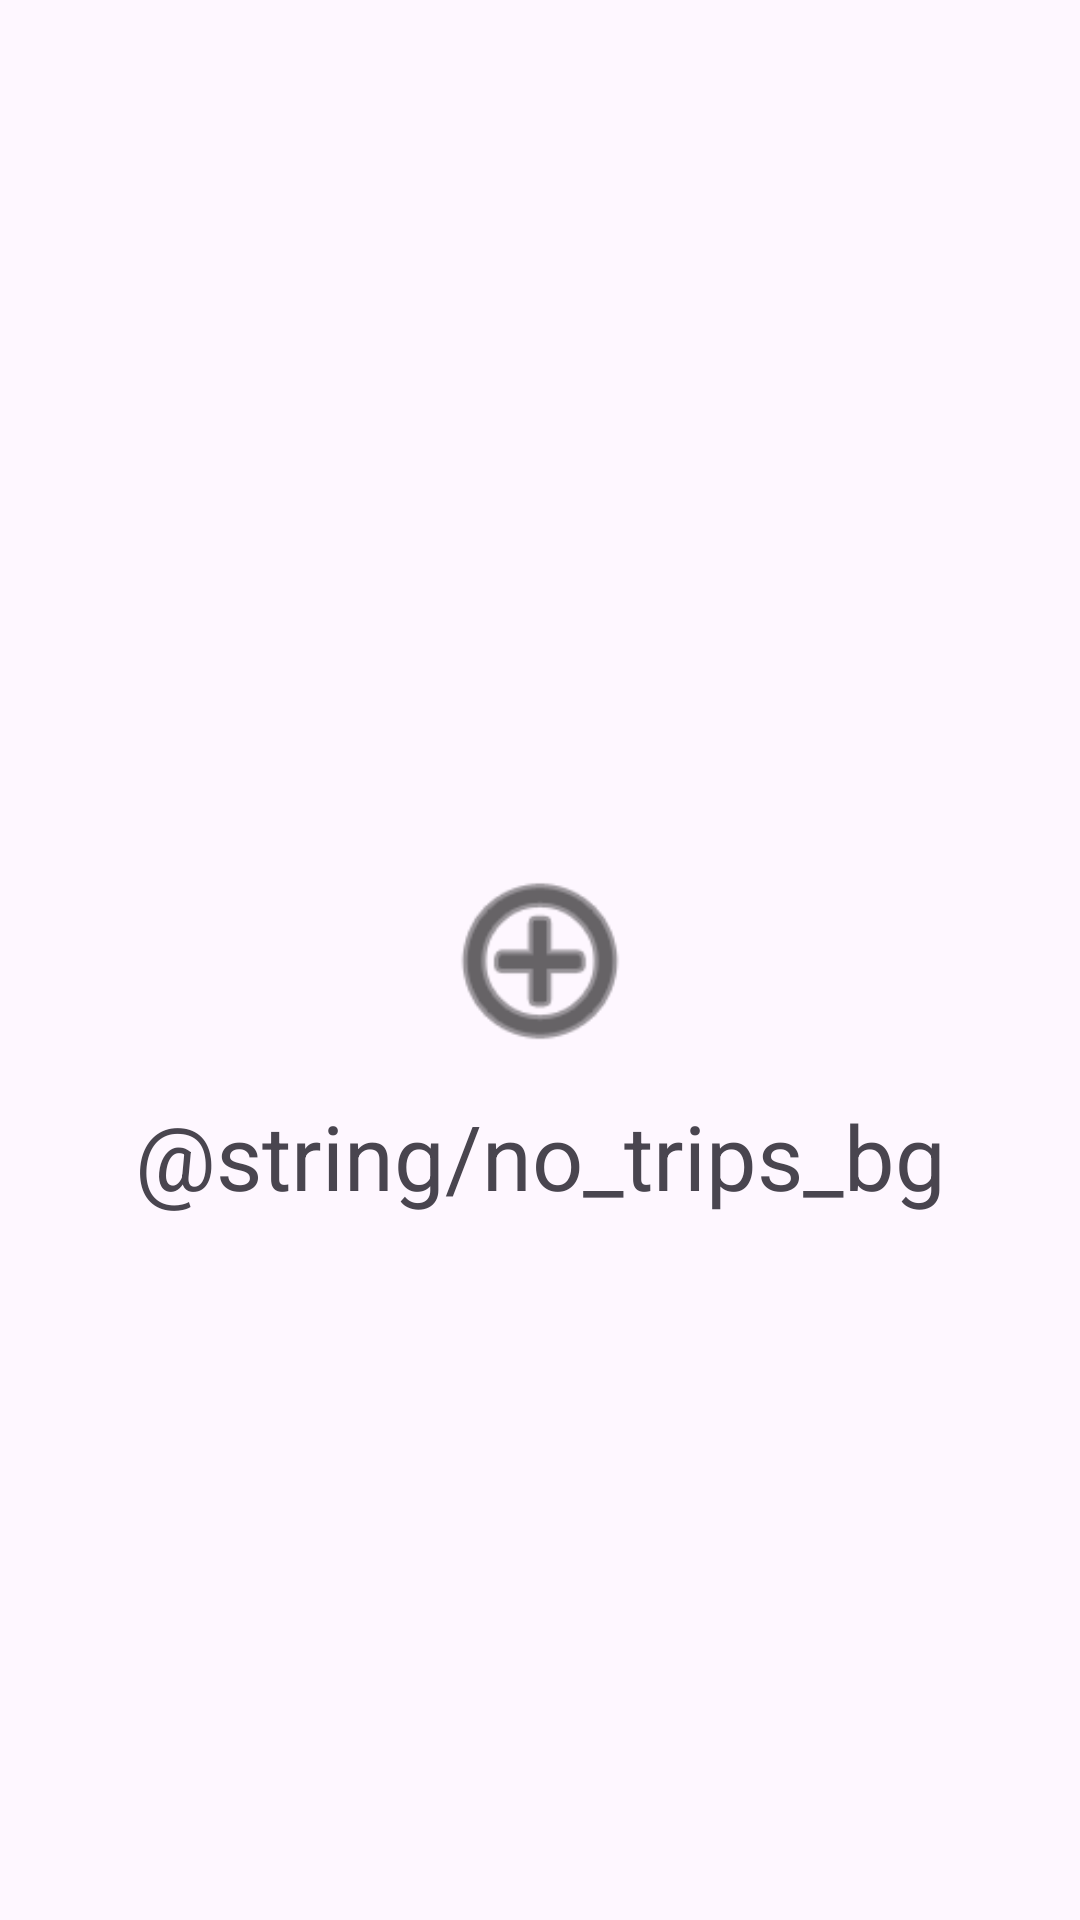

Screen size 1080*1920. Icon name, then its box in pixels as [x1, y1, x2, y2]:
add: [462, 883, 618, 1039]
